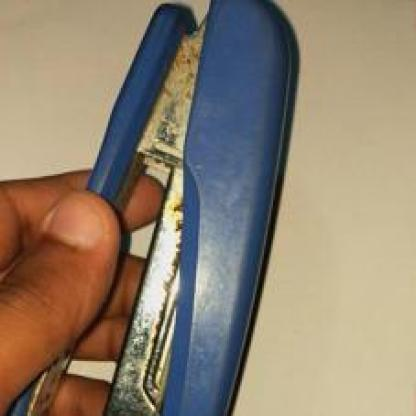stapler: (27, 0, 322, 414)
